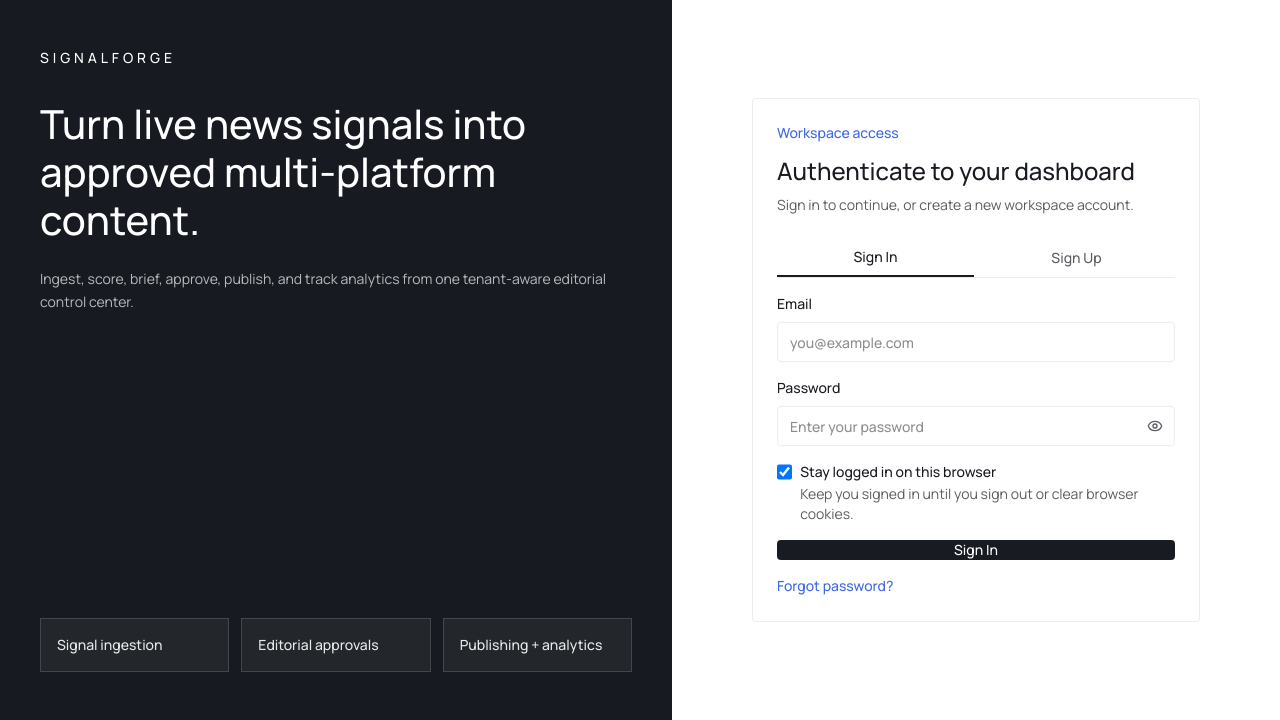
Test case: AuthHomePage › masks sign-in failures with a generic message
Type "demo@example.com" into the field labelled "Email" at (976, 342), box 777,322 -> 1175,362
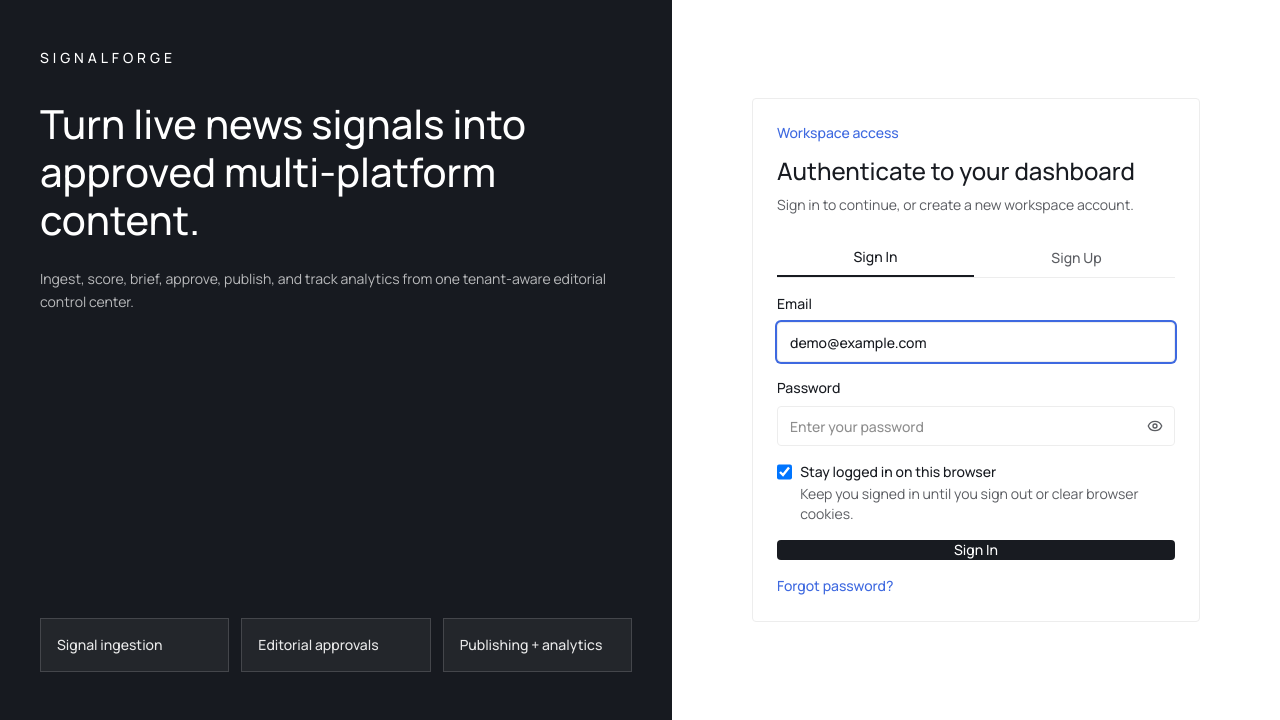
Type "wrong-password" into the password field labelled "Password" at (976, 426), box 777,406 -> 1175,446
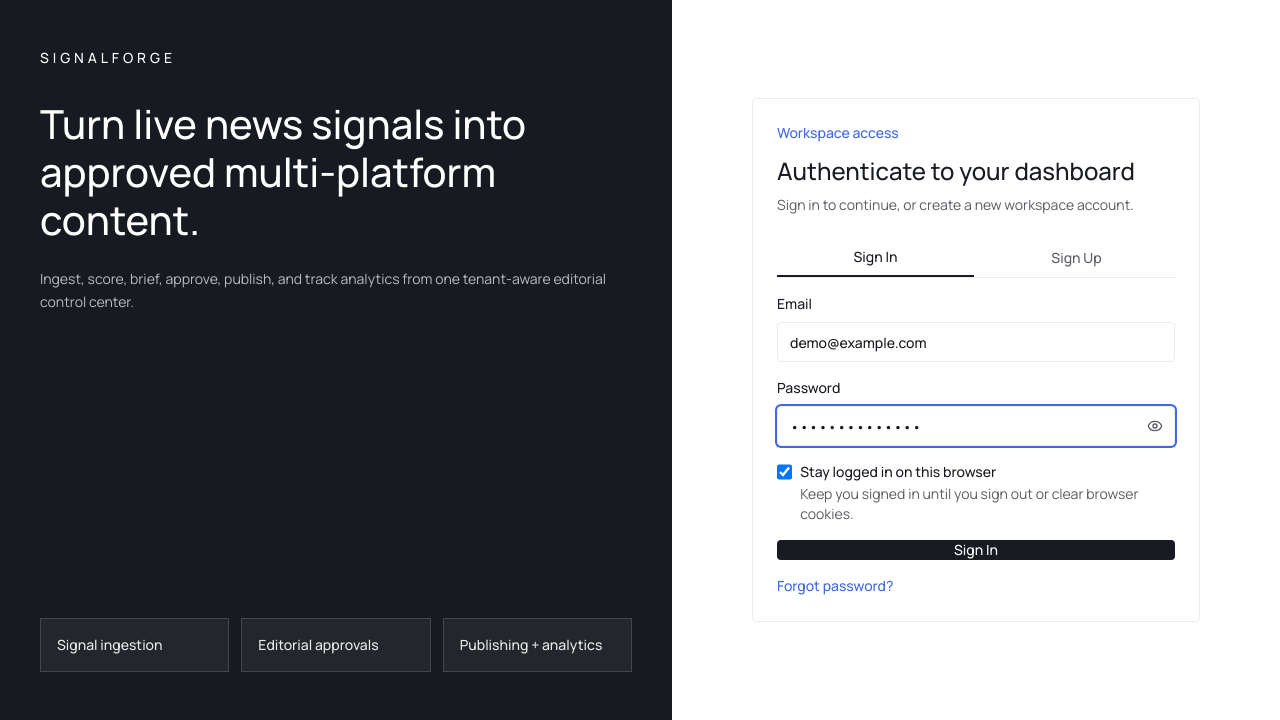
Click the button "Sign In" at (976, 550), box 777,540 -> 1175,560
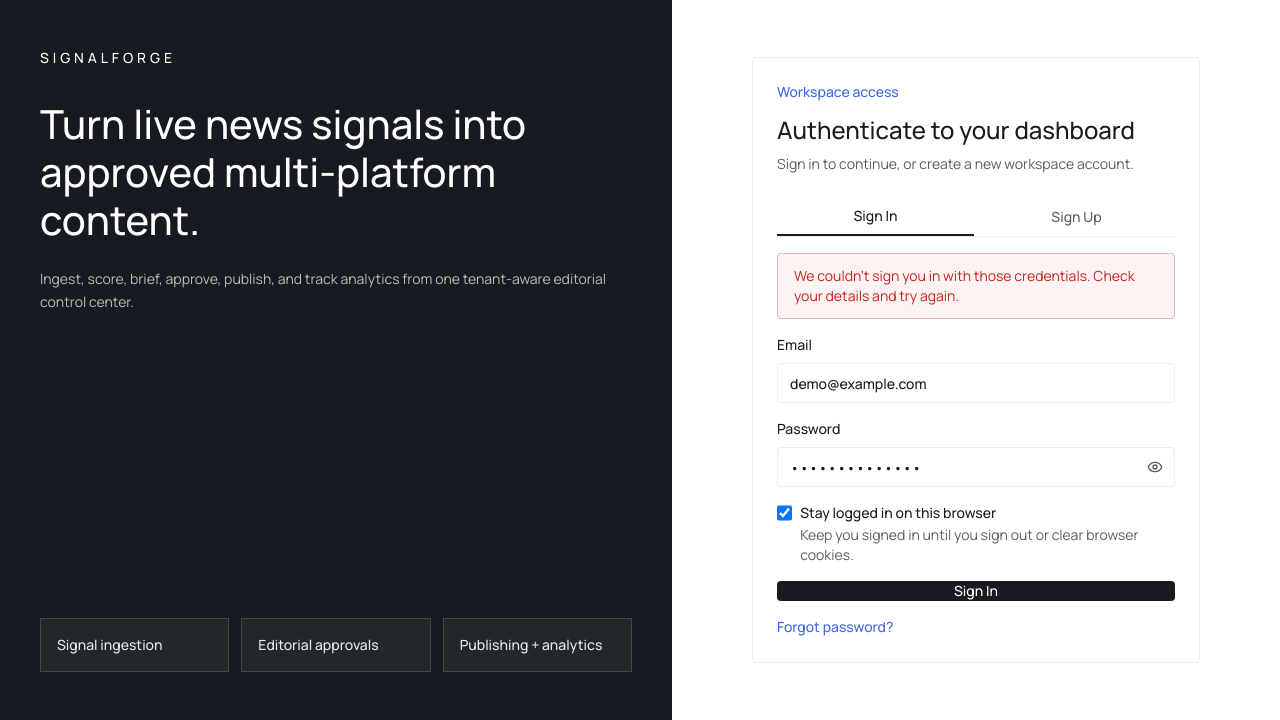
Expected: the text "We couldn't sign you in with those credentials. Check your details and try again." is shown, 794,266 -> 1135,306
